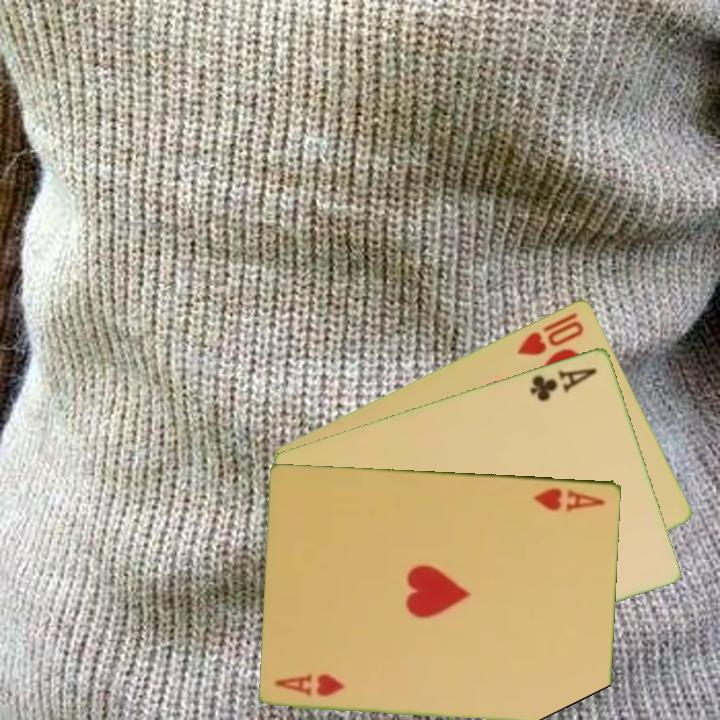10h: (513, 308, 587, 358)
Ac: (526, 363, 601, 404)
Ah: (530, 483, 608, 514), (272, 673, 348, 699)
